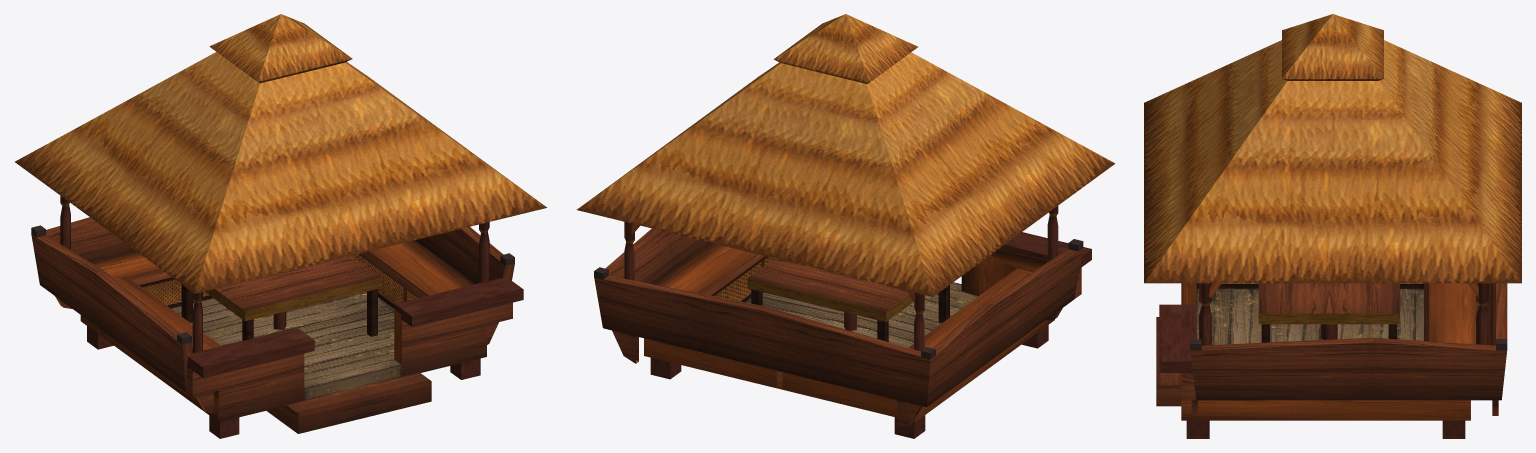
The model's file is SC_HDjianzhu03.FBX.
3 renders of one model, left to right at view 1: azimuth 30°, elevation 25°; view 2: azimuth 150°, elevation 25°; view 3: azimuth 270°, elevation 25°, orthographic. The views are drawn at different scales.
Visible parts, largest first — view 1: SC_HDjianzhu03; view 2: SC_HDjianzhu03; view 3: SC_HDjianzhu03.
Part boxes in pixels (x1,y1,x2,y2): SC_HDjianzhu03: (15, 14, 546, 438); SC_HDjianzhu03: (577, 14, 1115, 438); SC_HDjianzhu03: (1144, 14, 1521, 438).
Size of the model in its own units: 244 by 226 by 216.
